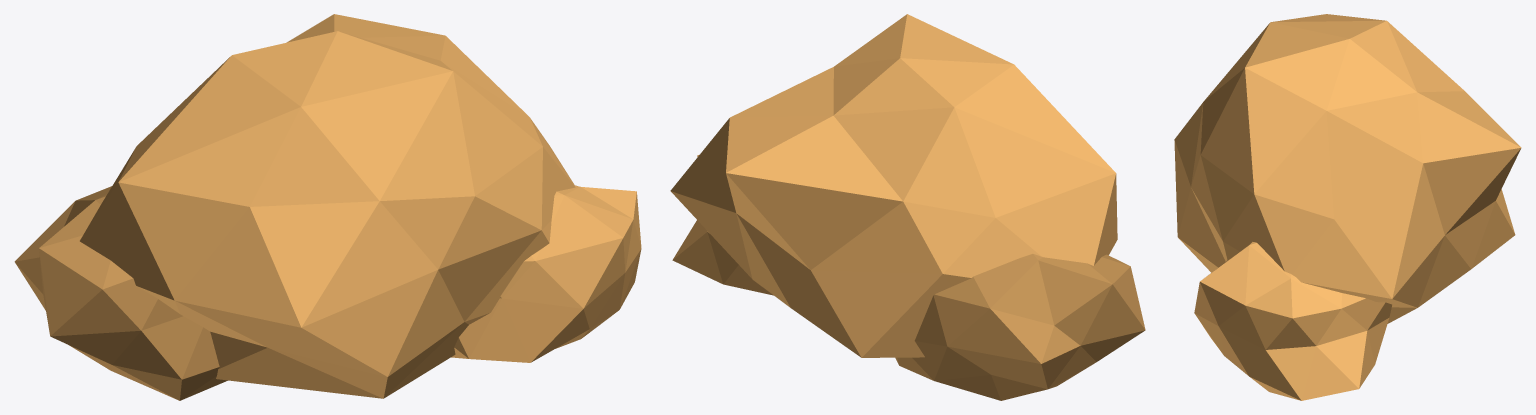
The model's file is t6_rock_full.glb.
3 renders of one model, left to right at view 1: azimuth 30°, elevation 25°; view 2: azimuth 150°, elevation 25°; view 3: azimuth 270°, elevation 25°, orthographic. The views are drawn at different scales.
Parts seen in each view (by area): view 1: CenterRock, LeftRock, RightRock; view 2: CenterRock, LeftRock, RightRock; view 3: CenterRock, RightRock.
Part boxes in pixels (<box>): CenterRock: <box>80,14,575,398</box>; LeftRock: <box>14,186,227,400</box>; RightRock: <box>451,185,641,362</box>; CenterRock: <box>670,14,1117,357</box>; LeftRock: <box>895,254,1145,400</box>; RightRock: <box>672,154,773,295</box>; CenterRock: <box>1174,14,1521,323</box>; RightRock: <box>1194,242,1391,400</box>.
Size of the model in its own units: 1.55 by 0.8681 by 0.9954.
